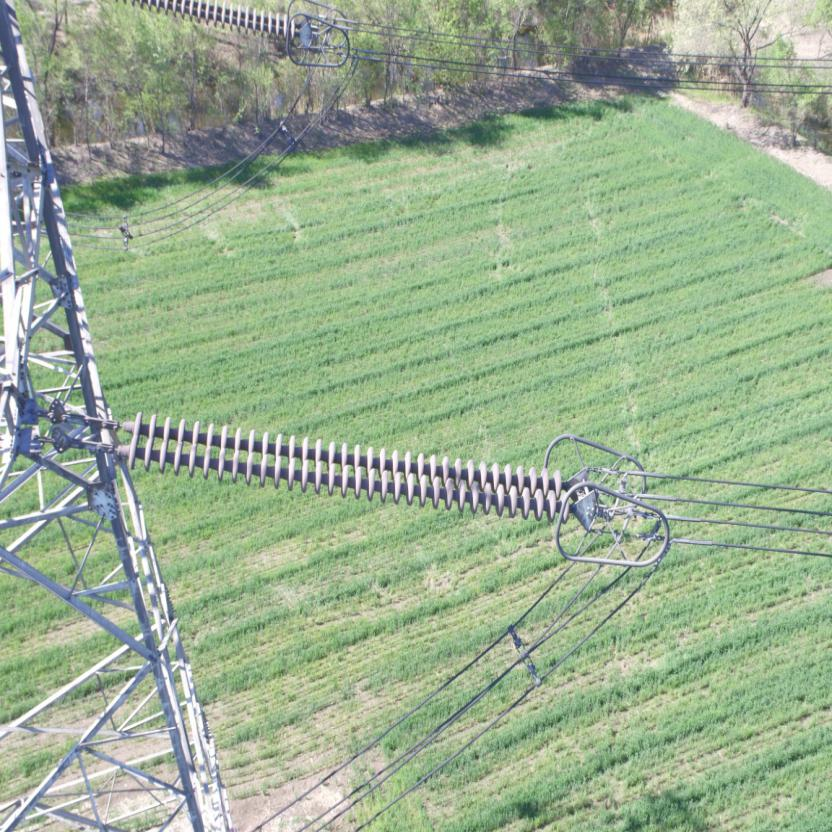insulator: (88, 407, 584, 528), (100, 0, 302, 46)
